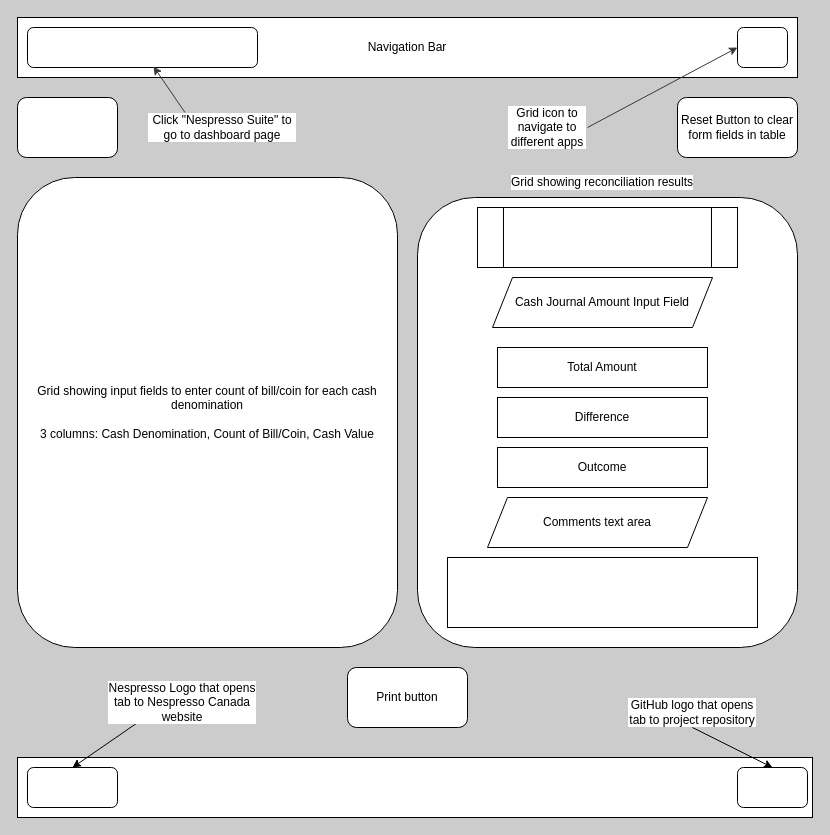
The diagram is 830 pixels wide and 835 high, and some of its shapes have lost their labels. Each missing label, with the box of its shape:
Footer: (16, 756, 812, 818)
Heading: (16, 96, 118, 158)
Nespresso Suite Title & Logo: (26, 26, 258, 68)
Shift Selection: (476, 206, 738, 268)
Space for signatures (when this is printed): (446, 556, 758, 628)
